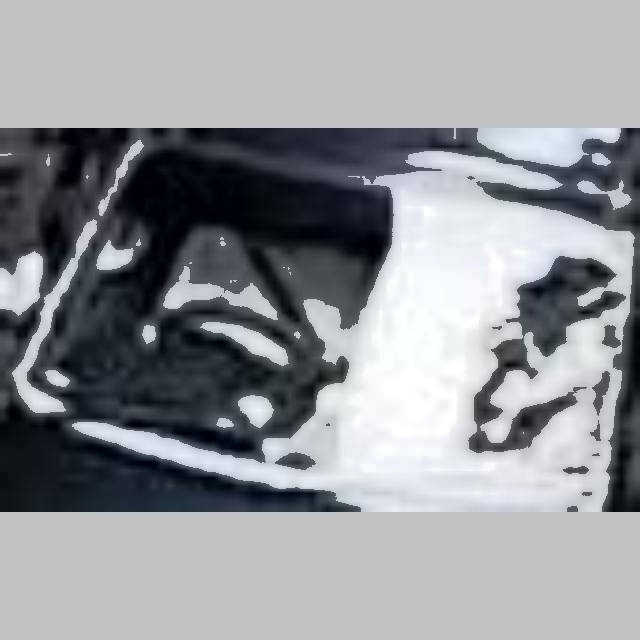pakai: (166, 211, 384, 414)
